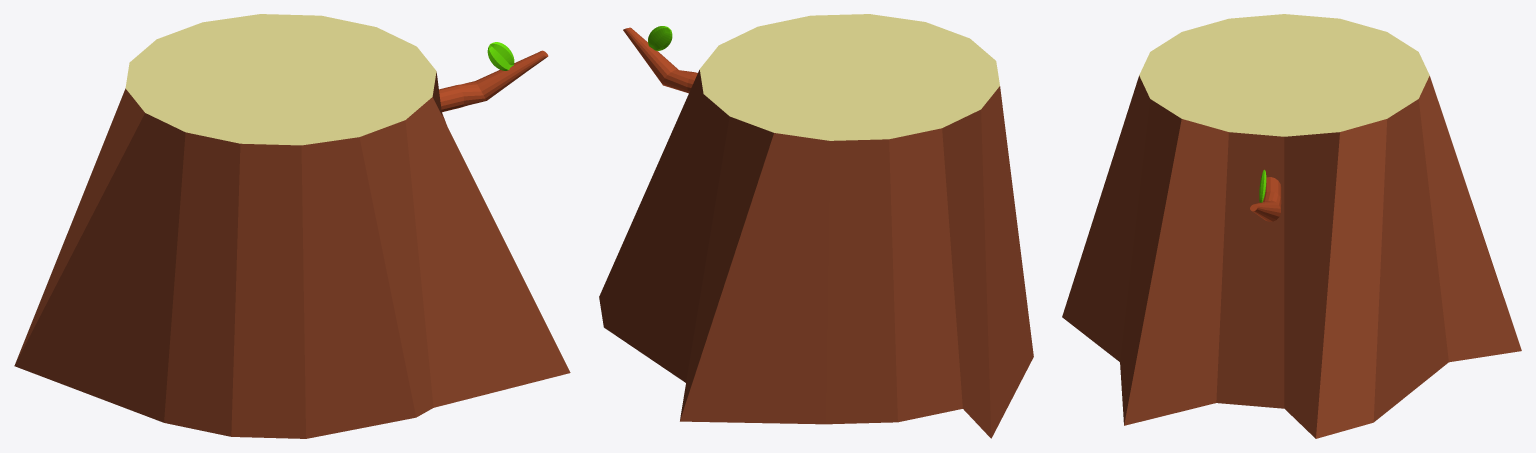
The model's file is stump.fbx.
3 views of the same model, side by side, from view 1: azimuth 30°, elevation 25°; view 2: azimuth 150°, elevation 25°; view 3: azimuth 270°, elevation 25° (orthographic). The views are drawn at different scales.
Visible parts, largest first — view 1: Cylinder, Cylinder.001, Sphere; view 2: Cylinder, Cylinder.001, Sphere; view 3: Cylinder, Cylinder.001.
Part boxes in pixels (x1=…): Cylinder: x1=14, y1=14, x2=570, y2=438; Cylinder.001: x1=439, y1=50, x2=548, y2=112; Sphere: x1=487, y1=42, x2=514, y2=70; Cylinder: x1=599, y1=14, x2=1033, y2=438; Cylinder.001: x1=623, y1=27, x2=697, y2=93; Sphere: x1=648, y1=26, x2=672, y2=50; Cylinder: x1=1062, y1=14, x2=1521, y2=438; Cylinder.001: x1=1250, y1=177, x2=1281, y2=221.
Size of the model in its own units: 137 by 80.37 by 129.
